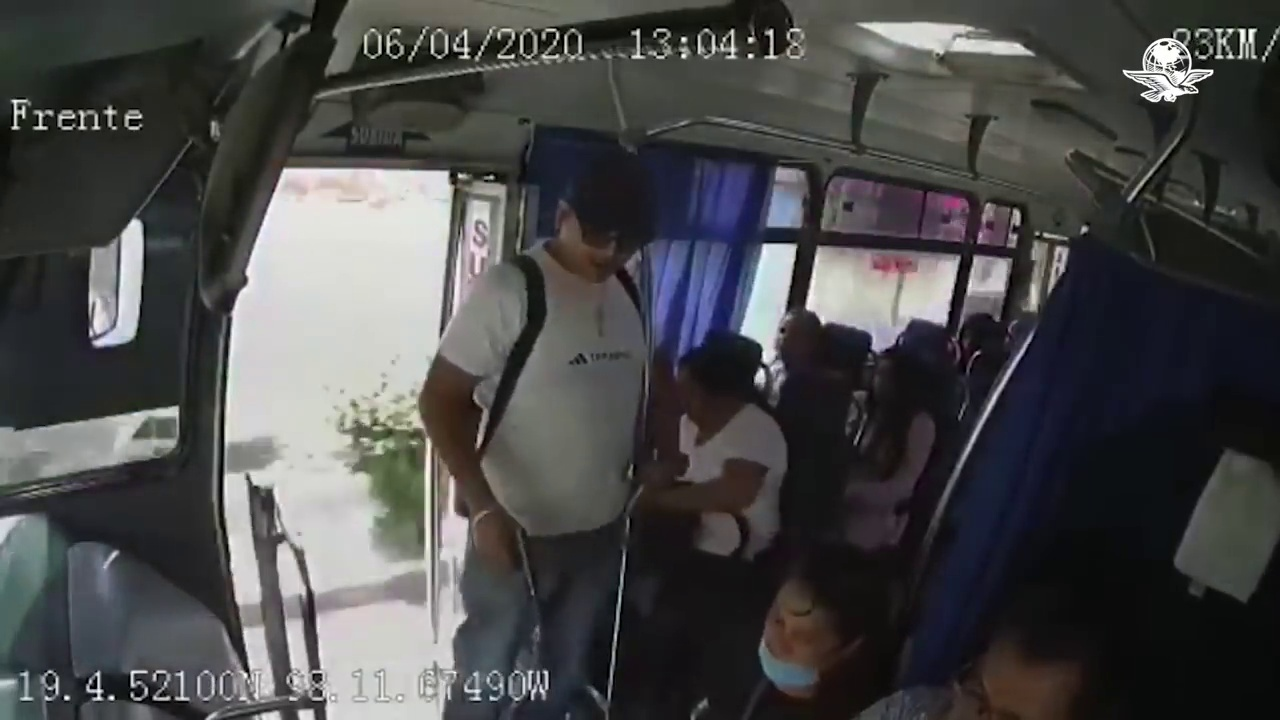pistol: (502, 525, 540, 607)
